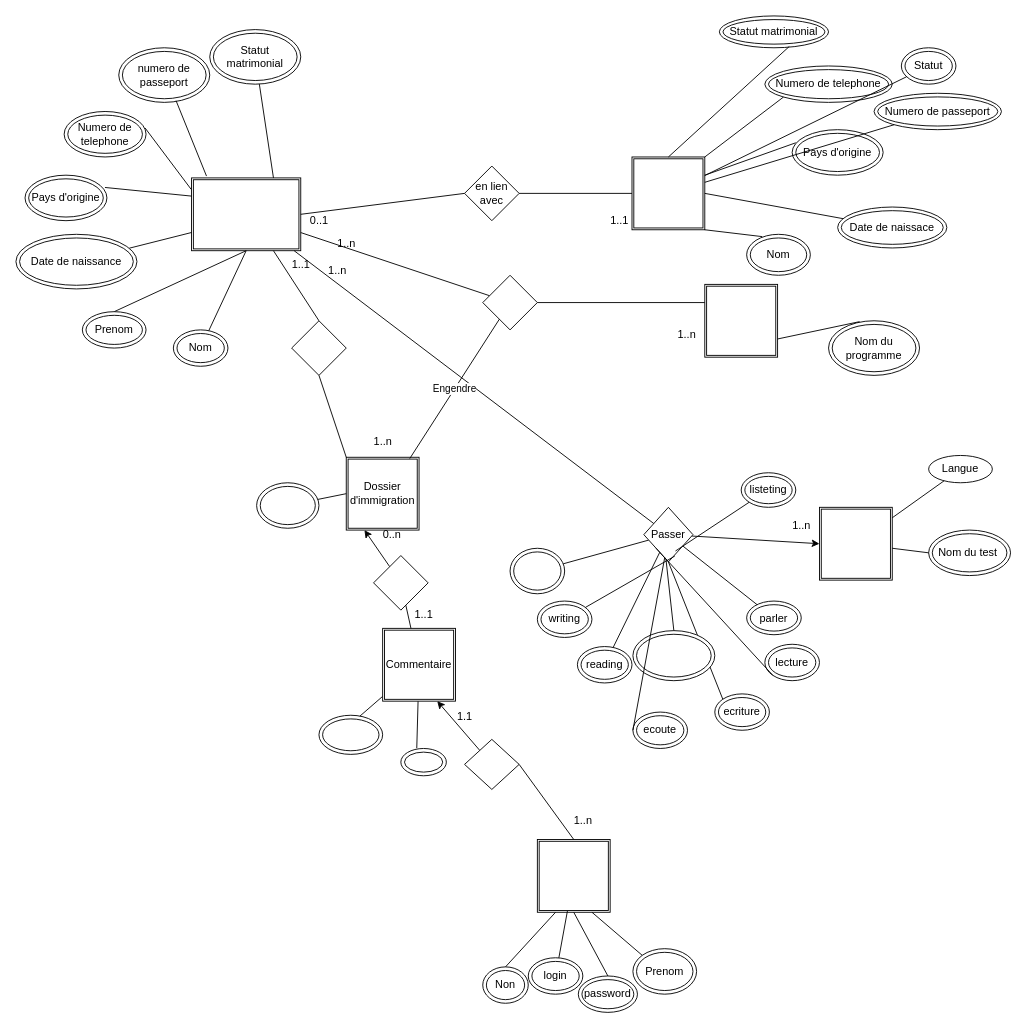
This 1026x1028 diagram has some shape labels left out. The centre of each missing label's shape, as x and y in pixels:
Candidat: (x=246, y=214)
Conjoint: (x=668, y=193)
Consultant: (x=573, y=875)
Contenu: (x=350, y=734)
date: (x=423, y=762)
date resultat: (x=673, y=655)
detient: (x=318, y=347)
IUC: (x=287, y=505)
porte sur: (x=400, y=582)
Postuler: (x=509, y=302)
Programme D'immigration: (x=741, y=320)
Redige: (x=491, y=763)
speaking: (x=537, y=570)
Test langue: (x=855, y=543)
